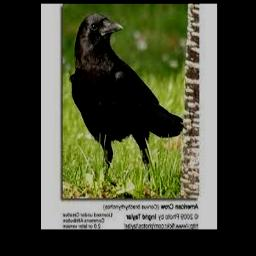Crow: (69, 11, 185, 199)
